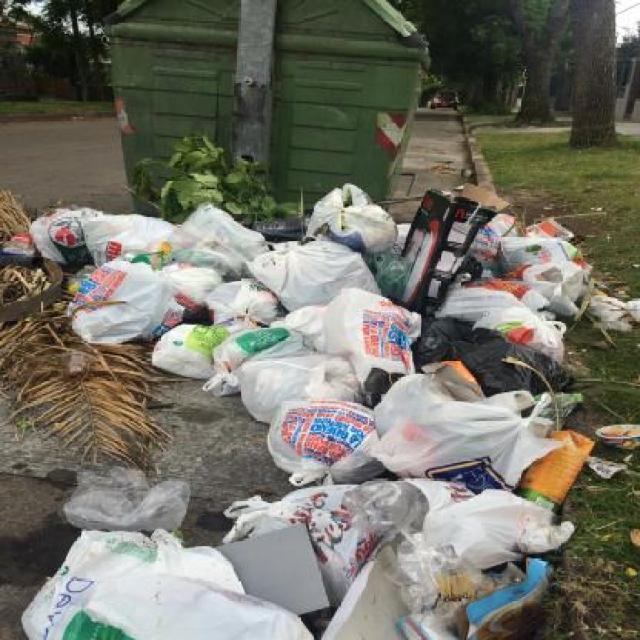garbage: (36, 179, 563, 408), (257, 335, 522, 640), (26, 480, 470, 639)
